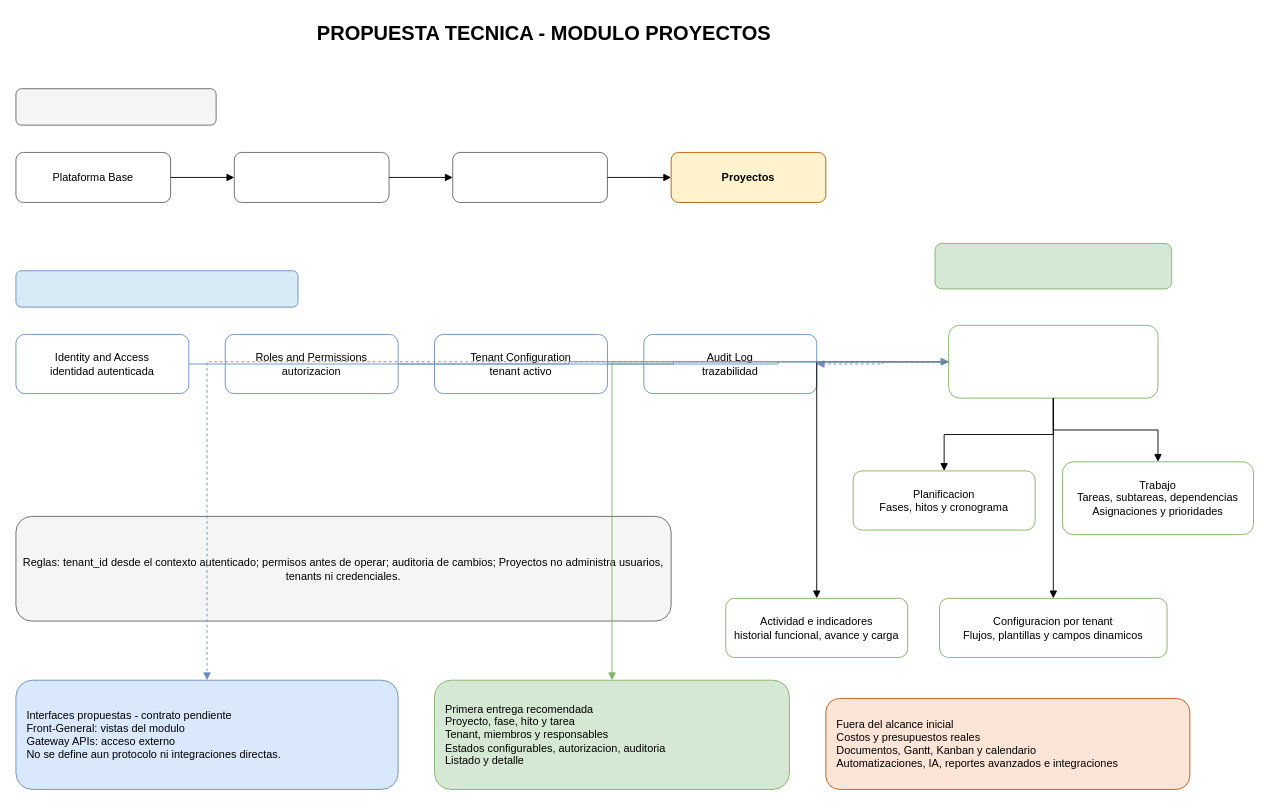
This 1269x805 diagram has some shape labels left out. The shapes that lost their labels are listed below. From the top down, each one's centre as x and y in pixels, then its label:
At (x=115, y=106): "MAPA SAGRADO: ubicacion verificada".
At (x=311, y=177): "Modulos de Negocio".
At (x=529, y=177): "Servicios".
At (x=1053, y=266): "PROPUESTA: modulo Proyectos".
At (x=156, y=288): "PROPUESTA: dependencias requeridas".
At (x=1053, y=361): "Nucleo Project, Portfolio, Members Estados y participantes".
